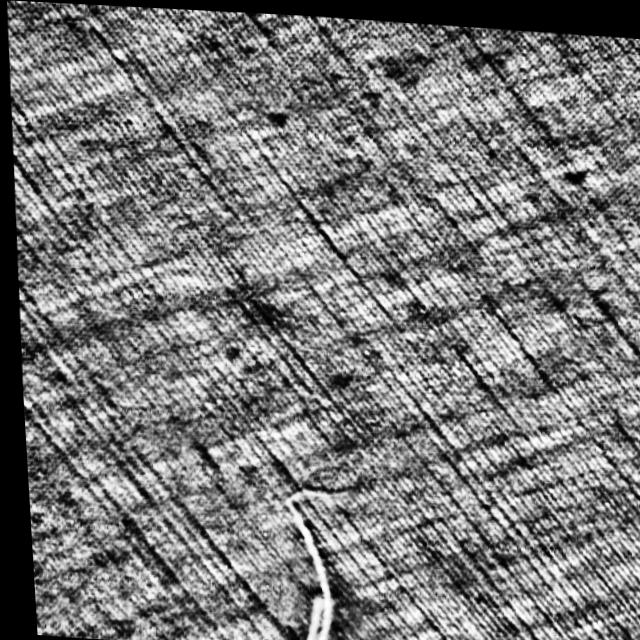Stitch: (254, 477, 364, 640)
